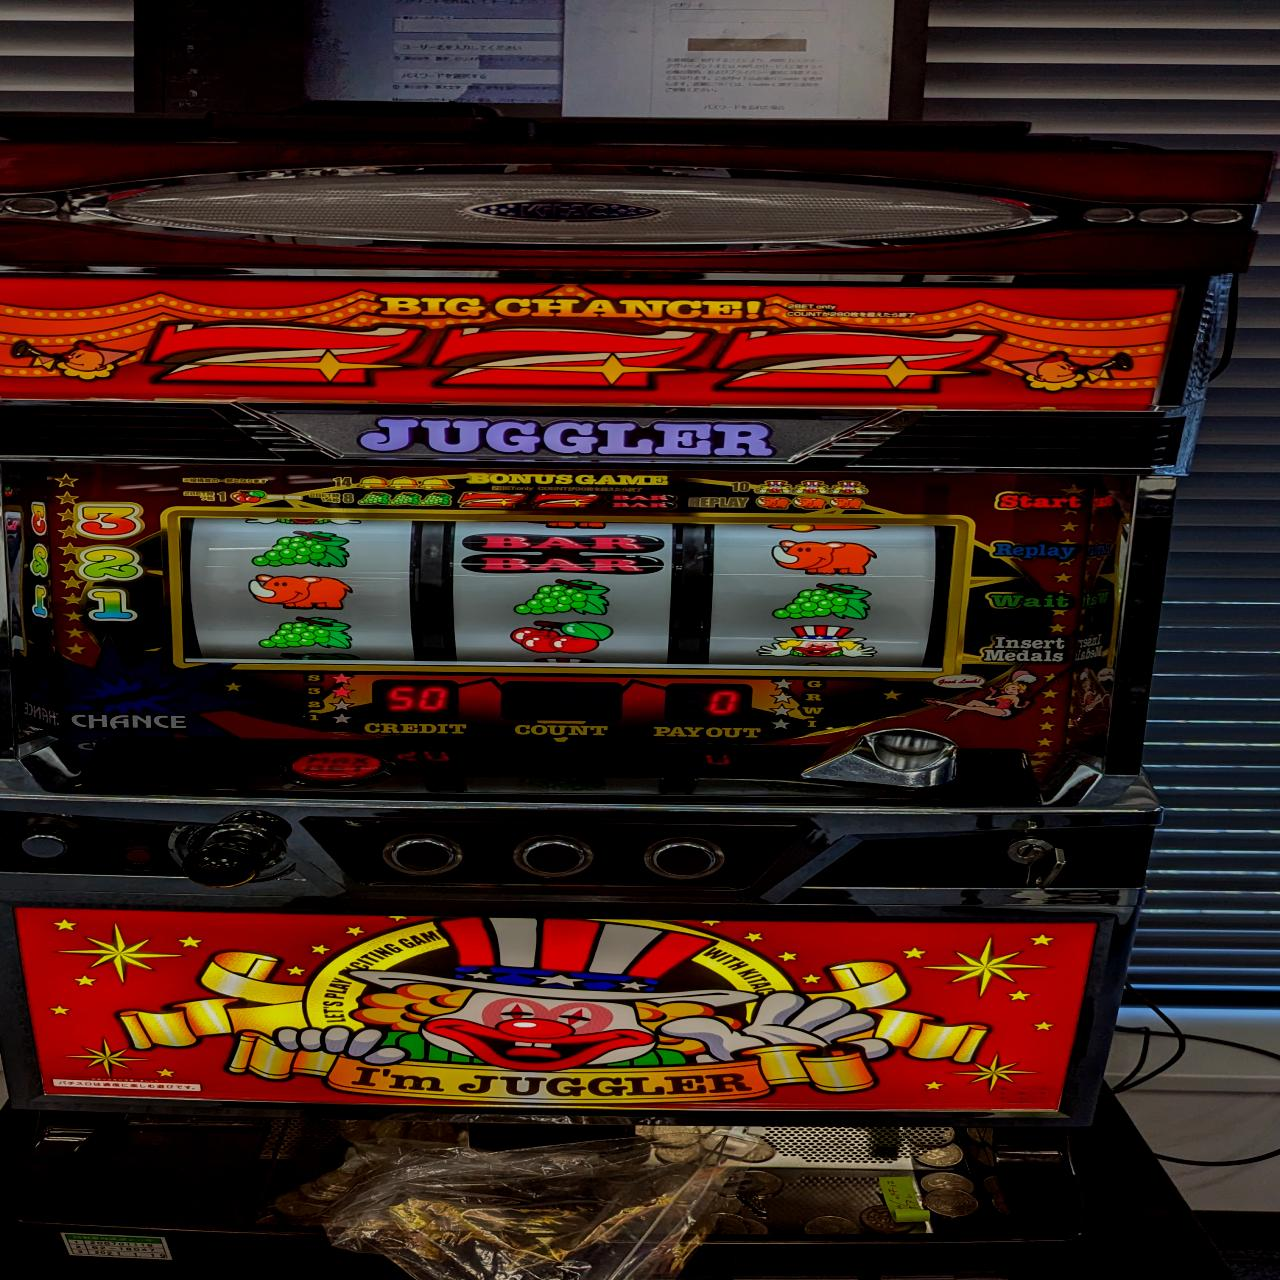8: (769, 535, 883, 578), (239, 572, 362, 612)
Display: (168, 506, 972, 669)
bar: (455, 529, 670, 578)
cherry: (502, 617, 617, 655)
clown: (755, 620, 880, 662)
grape: (240, 527, 353, 570), (509, 576, 618, 618), (764, 580, 876, 621), (253, 614, 360, 654)
